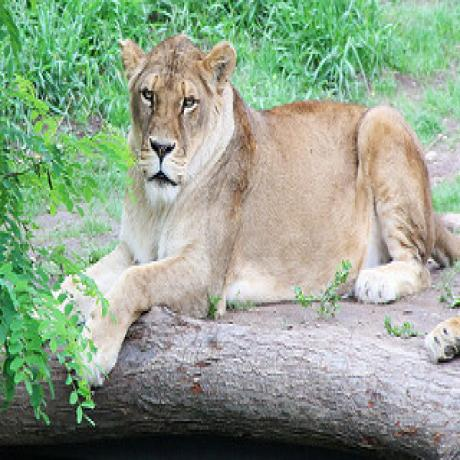Lion: (56, 29, 460, 381)
